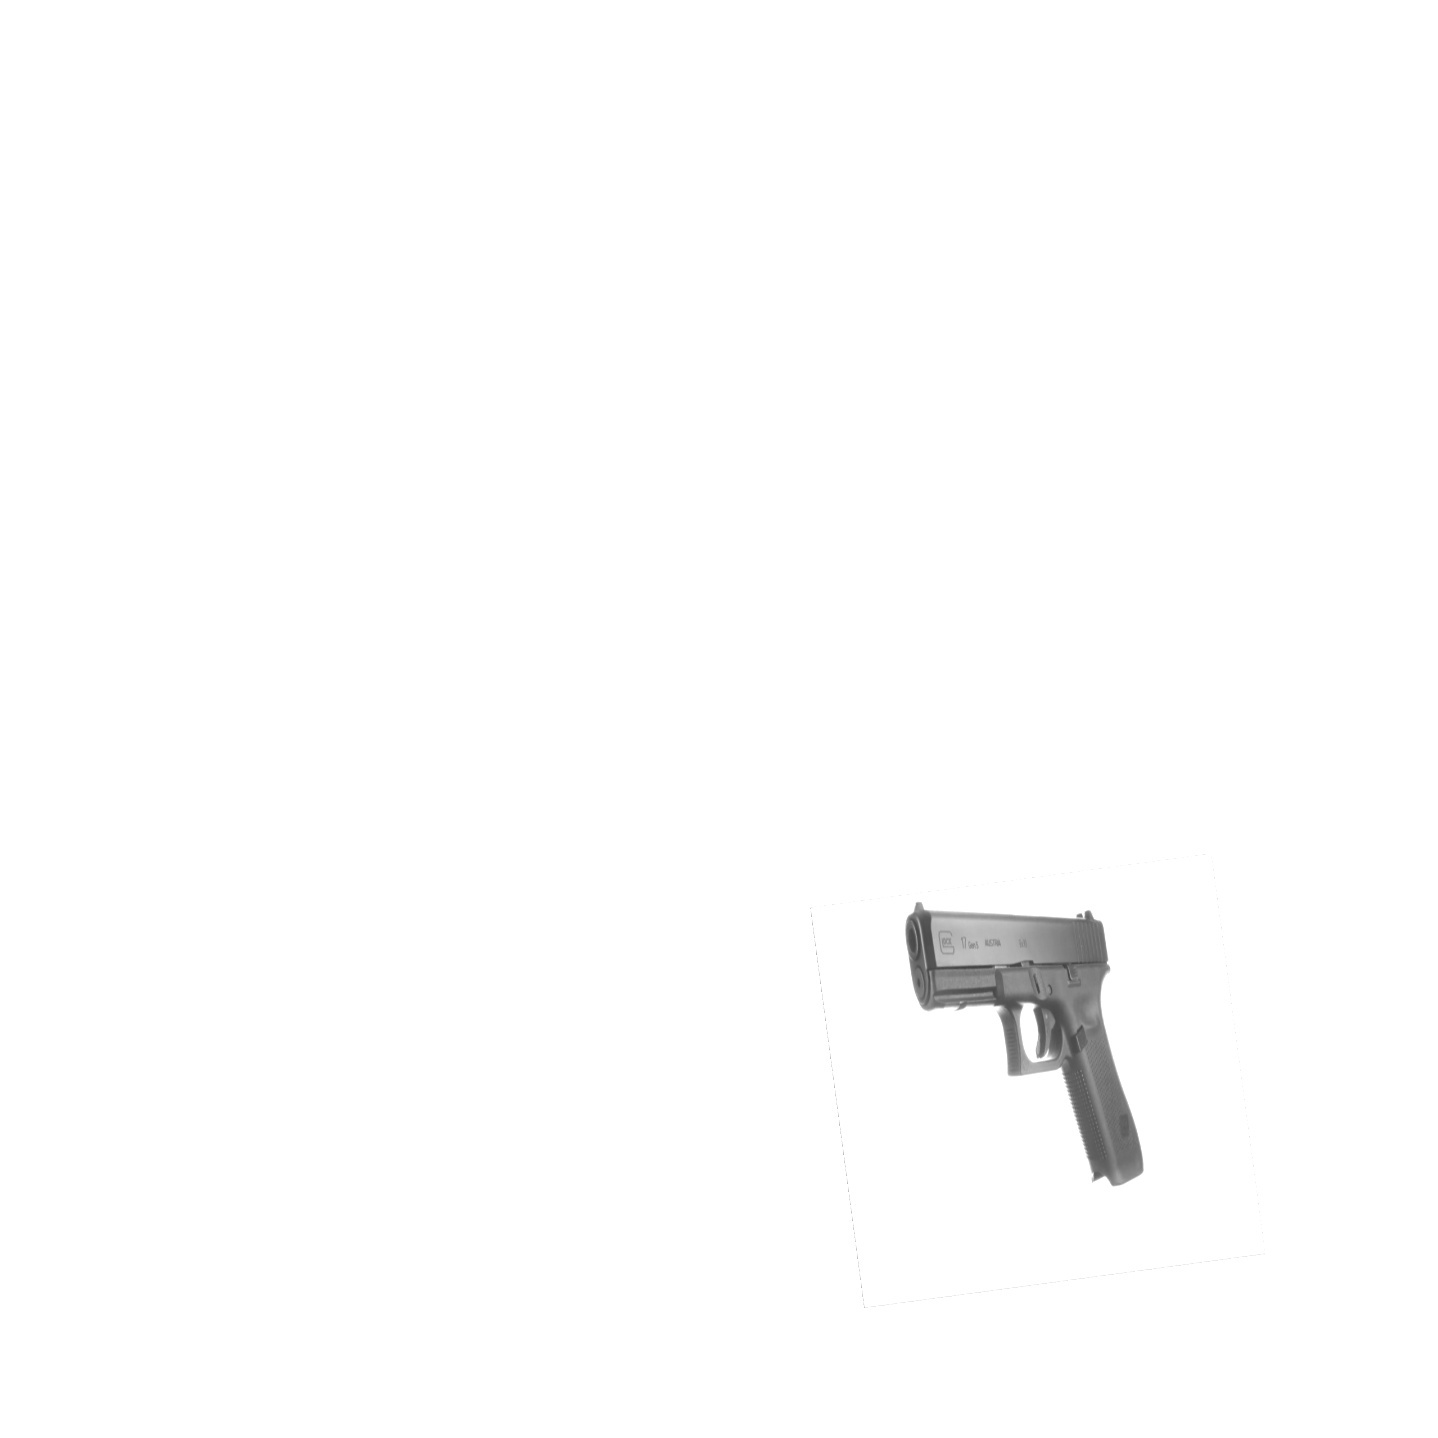gun: (895, 895, 1151, 1194)
